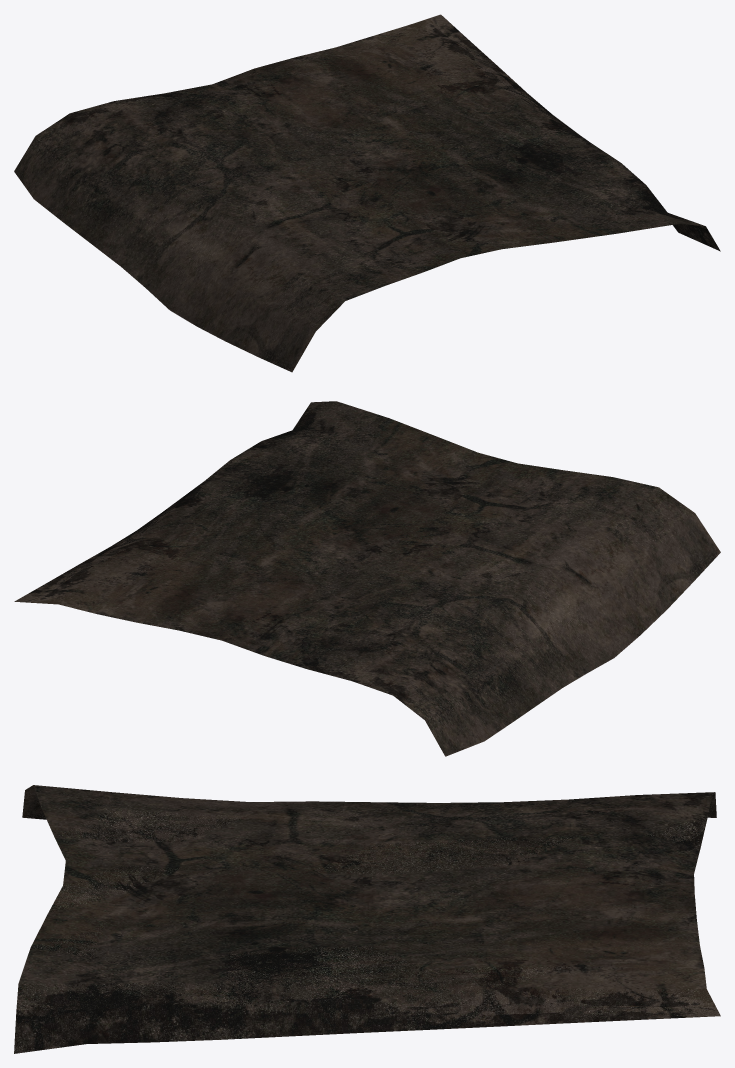
Rendered from Cave_wall.glb.
3 renders of one model, top to bottom at view 1: azimuth 30°, elevation 25°; view 2: azimuth 150°, elevation 25°; view 3: azimuth 270°, elevation 25°, orthographic. The views are drawn at different scales.
Visible parts, largest first — view 1: defaultMaterial; view 2: defaultMaterial; view 3: defaultMaterial.
Boxes of the visible parts, box(x1,y1,x2,y2) form: defaultMaterial: box(14, 14, 720, 372); defaultMaterial: box(14, 401, 720, 756); defaultMaterial: box(14, 785, 720, 1053).
Size of the model in its own units: 1.05 by 0.1767 by 1.17.
Materials: 1 (1 with a texture image).
